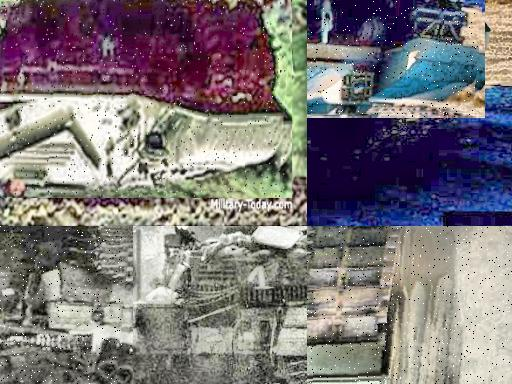tanks: (1, 1, 287, 198), (104, 227, 308, 384), (308, 227, 464, 384), (308, 1, 480, 115), (1, 227, 123, 384)
